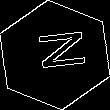N_W: (26, 32, 84, 78)
